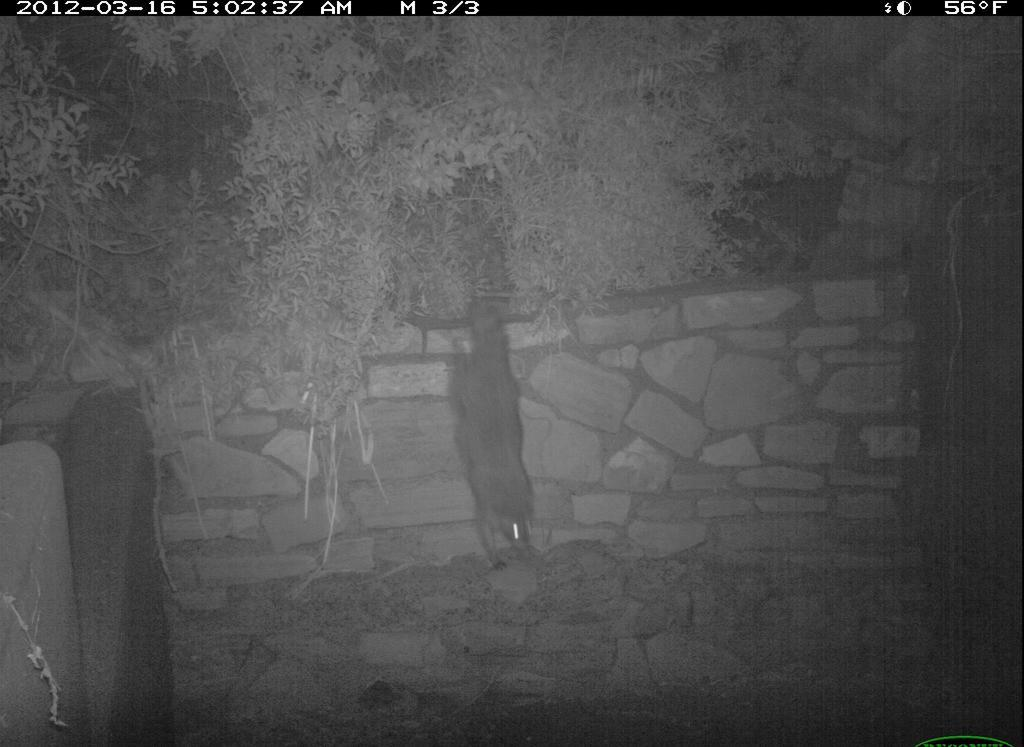raccoon: (436, 300, 560, 580)
